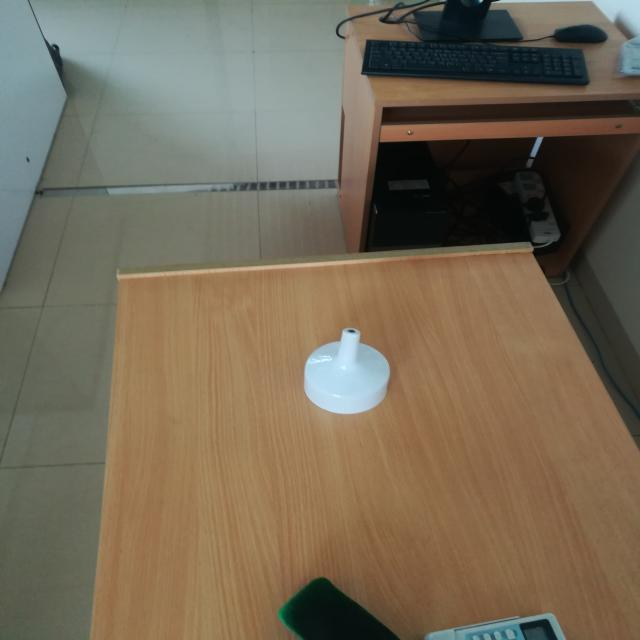Buchner_Funnel: (270, 299, 433, 442)
